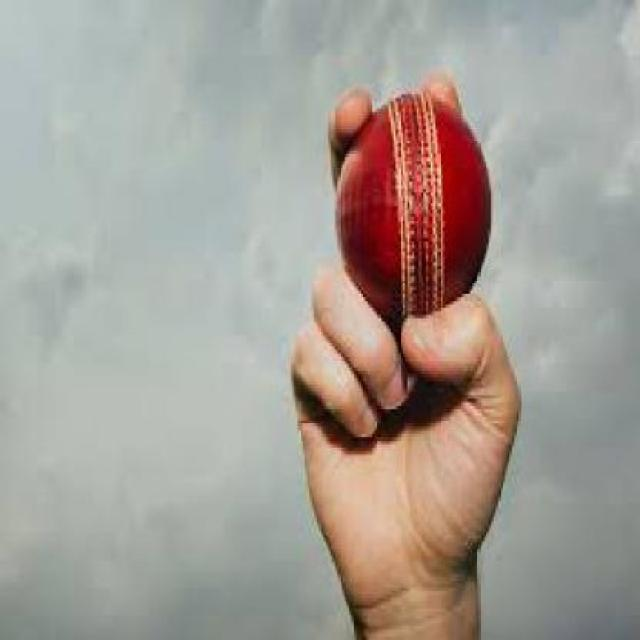ball: (302, 65, 512, 319)
